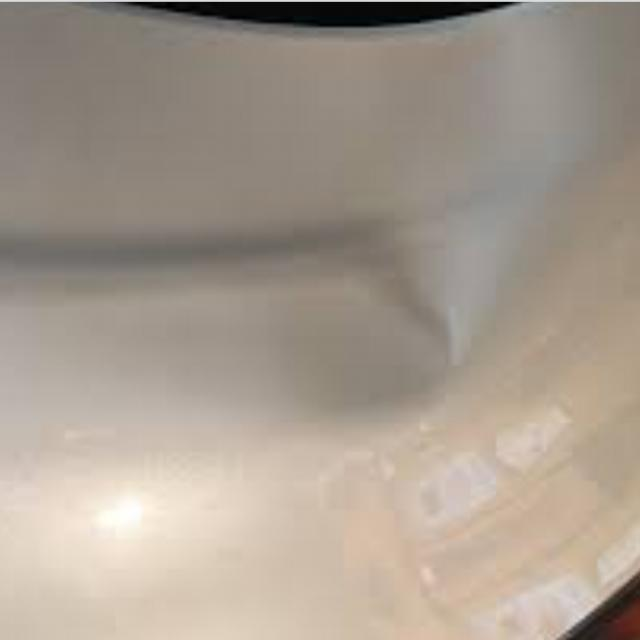dents: (0, 201, 487, 448)
